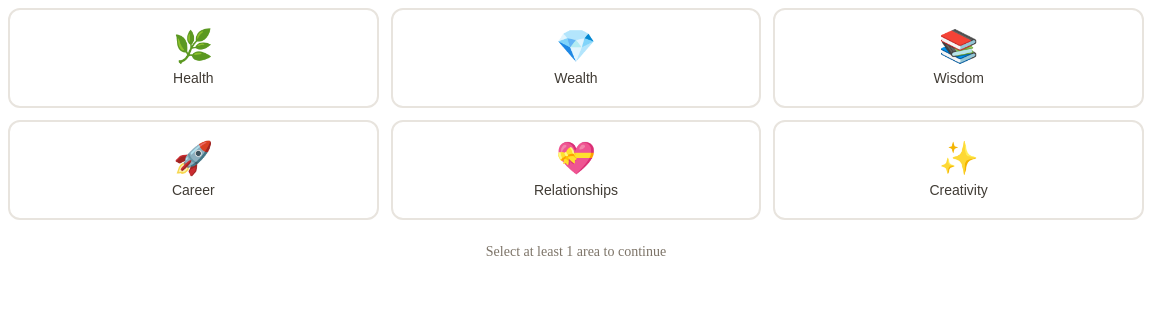
Test case: AC3: Interest Selection › should NOT allow selecting more than 2 interest areas
What coordinates should you click on to do the following:
click the text "Health"
I would click on:
 (193, 78)
Its box is [173,70,214,86].
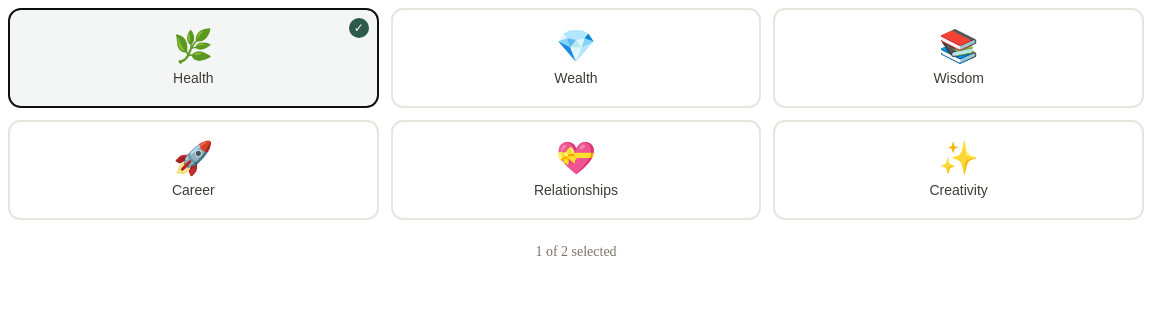
What coordinates should you click on to do the following:
click the text "Wealth"
I would click on:
 (576, 78)
Its box is [554,70,598,86].
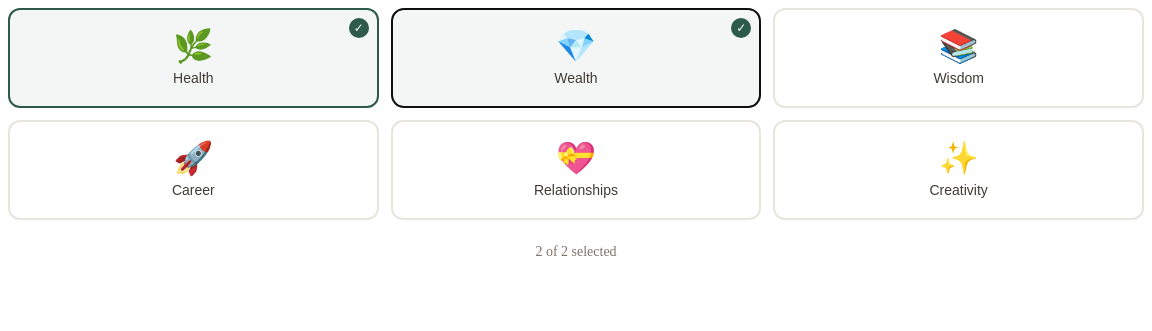
What coordinates should you click on to do the following:
click the text "Wisdom"
I would click on:
 (959, 78)
Its box is [933,70,984,86].
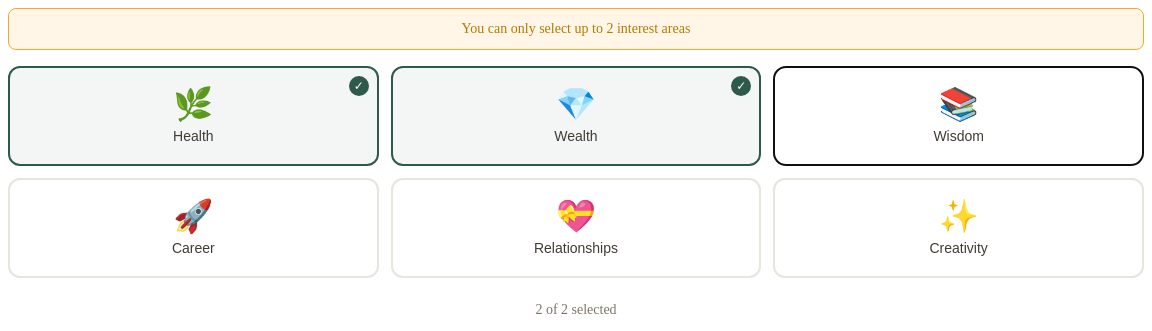
Now the text "You can only select up to 2 interest areas" is shown, box [8,8,1144,50]
